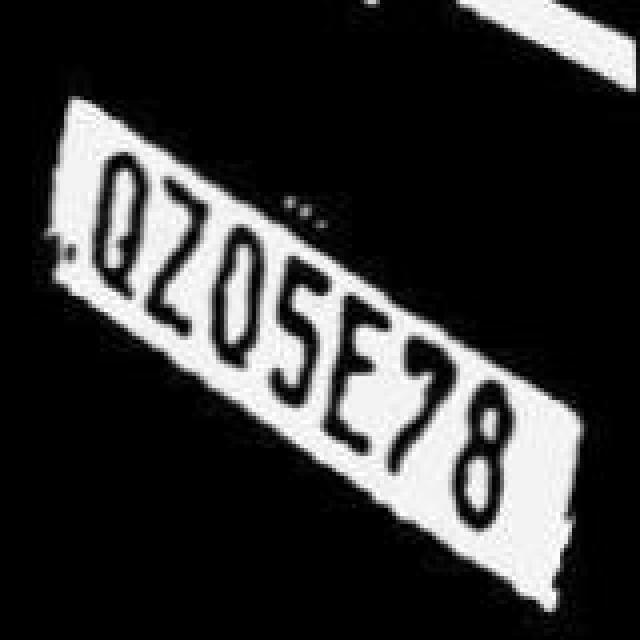5: (258, 260, 338, 428)
7: (378, 334, 462, 494)
8: (454, 374, 522, 566)
E: (328, 290, 392, 478)
O: (208, 222, 268, 374)
Q: (86, 146, 146, 302)
Z: (144, 174, 208, 350)
